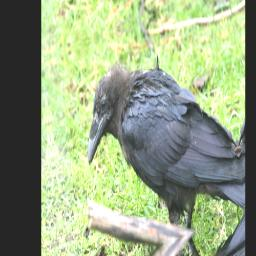Crow: (77, 20, 245, 256)
